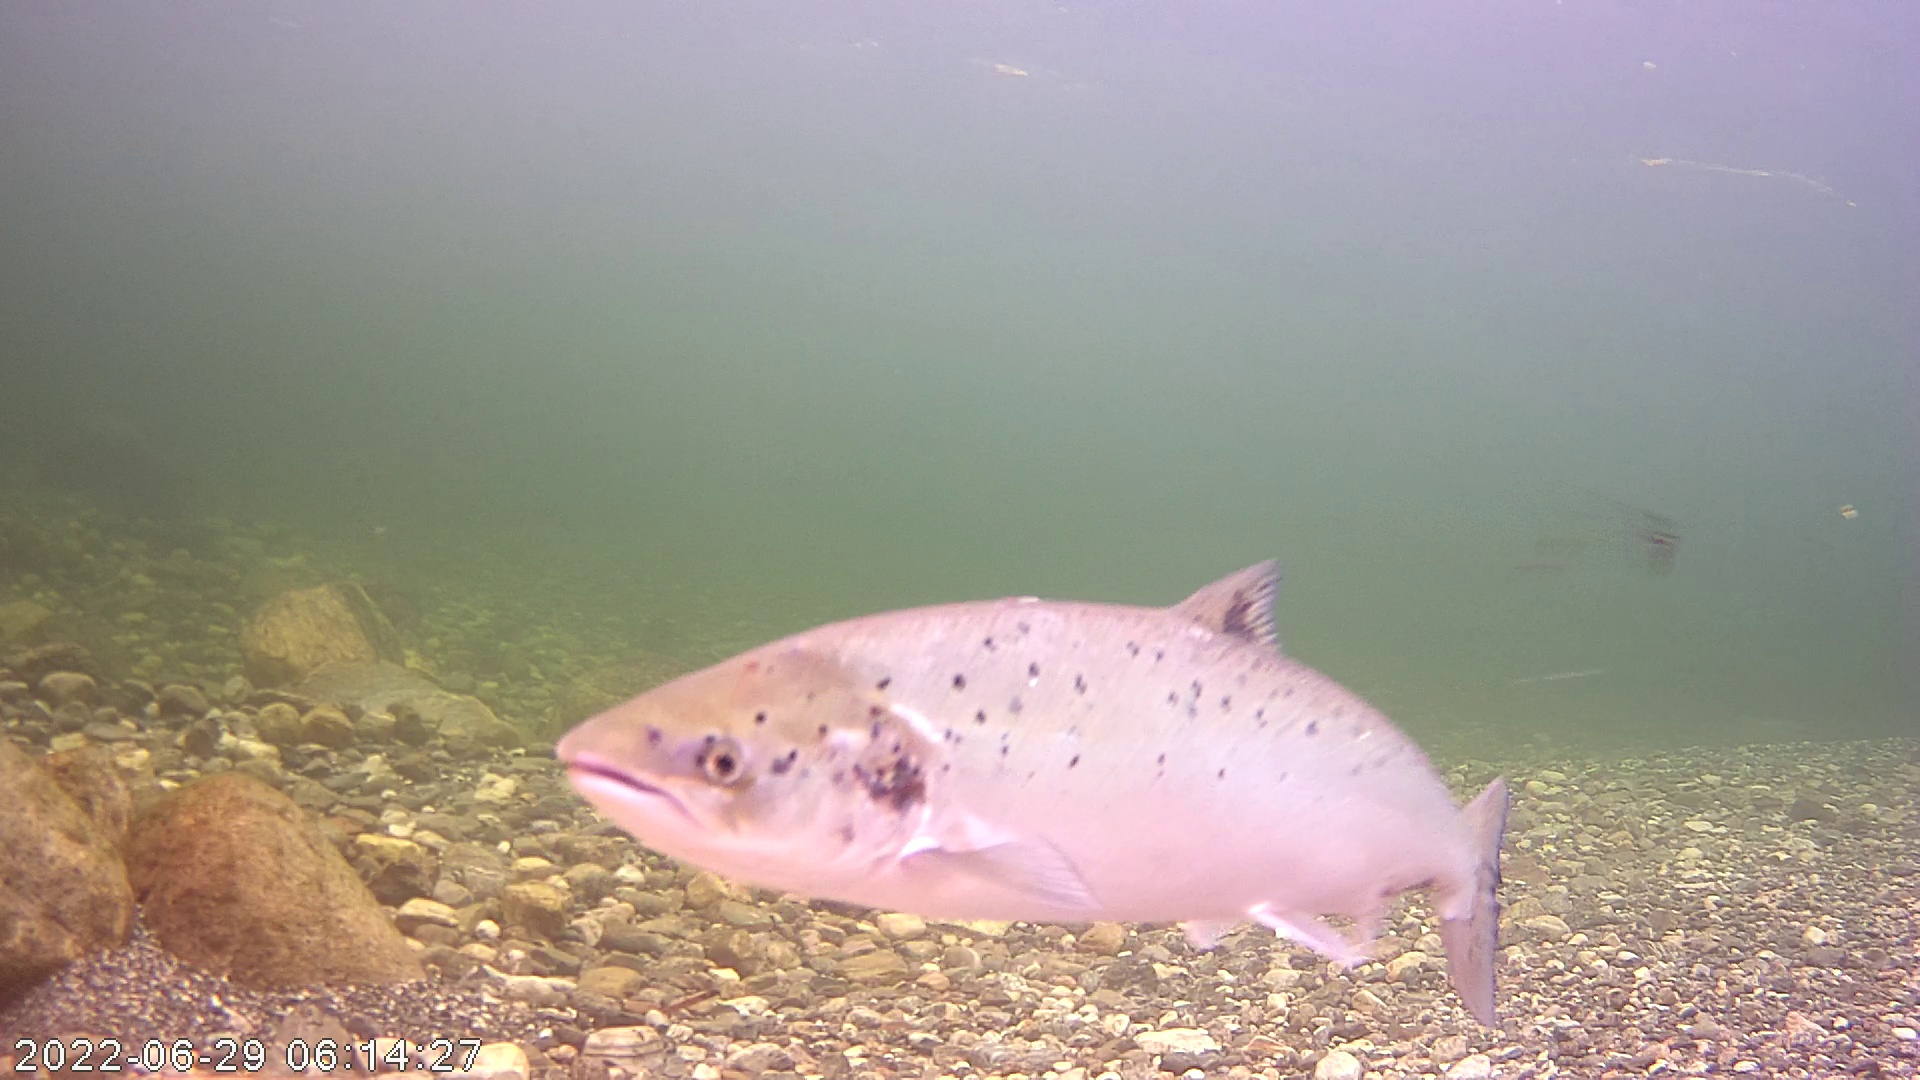salmon: (553, 440, 1487, 942)
